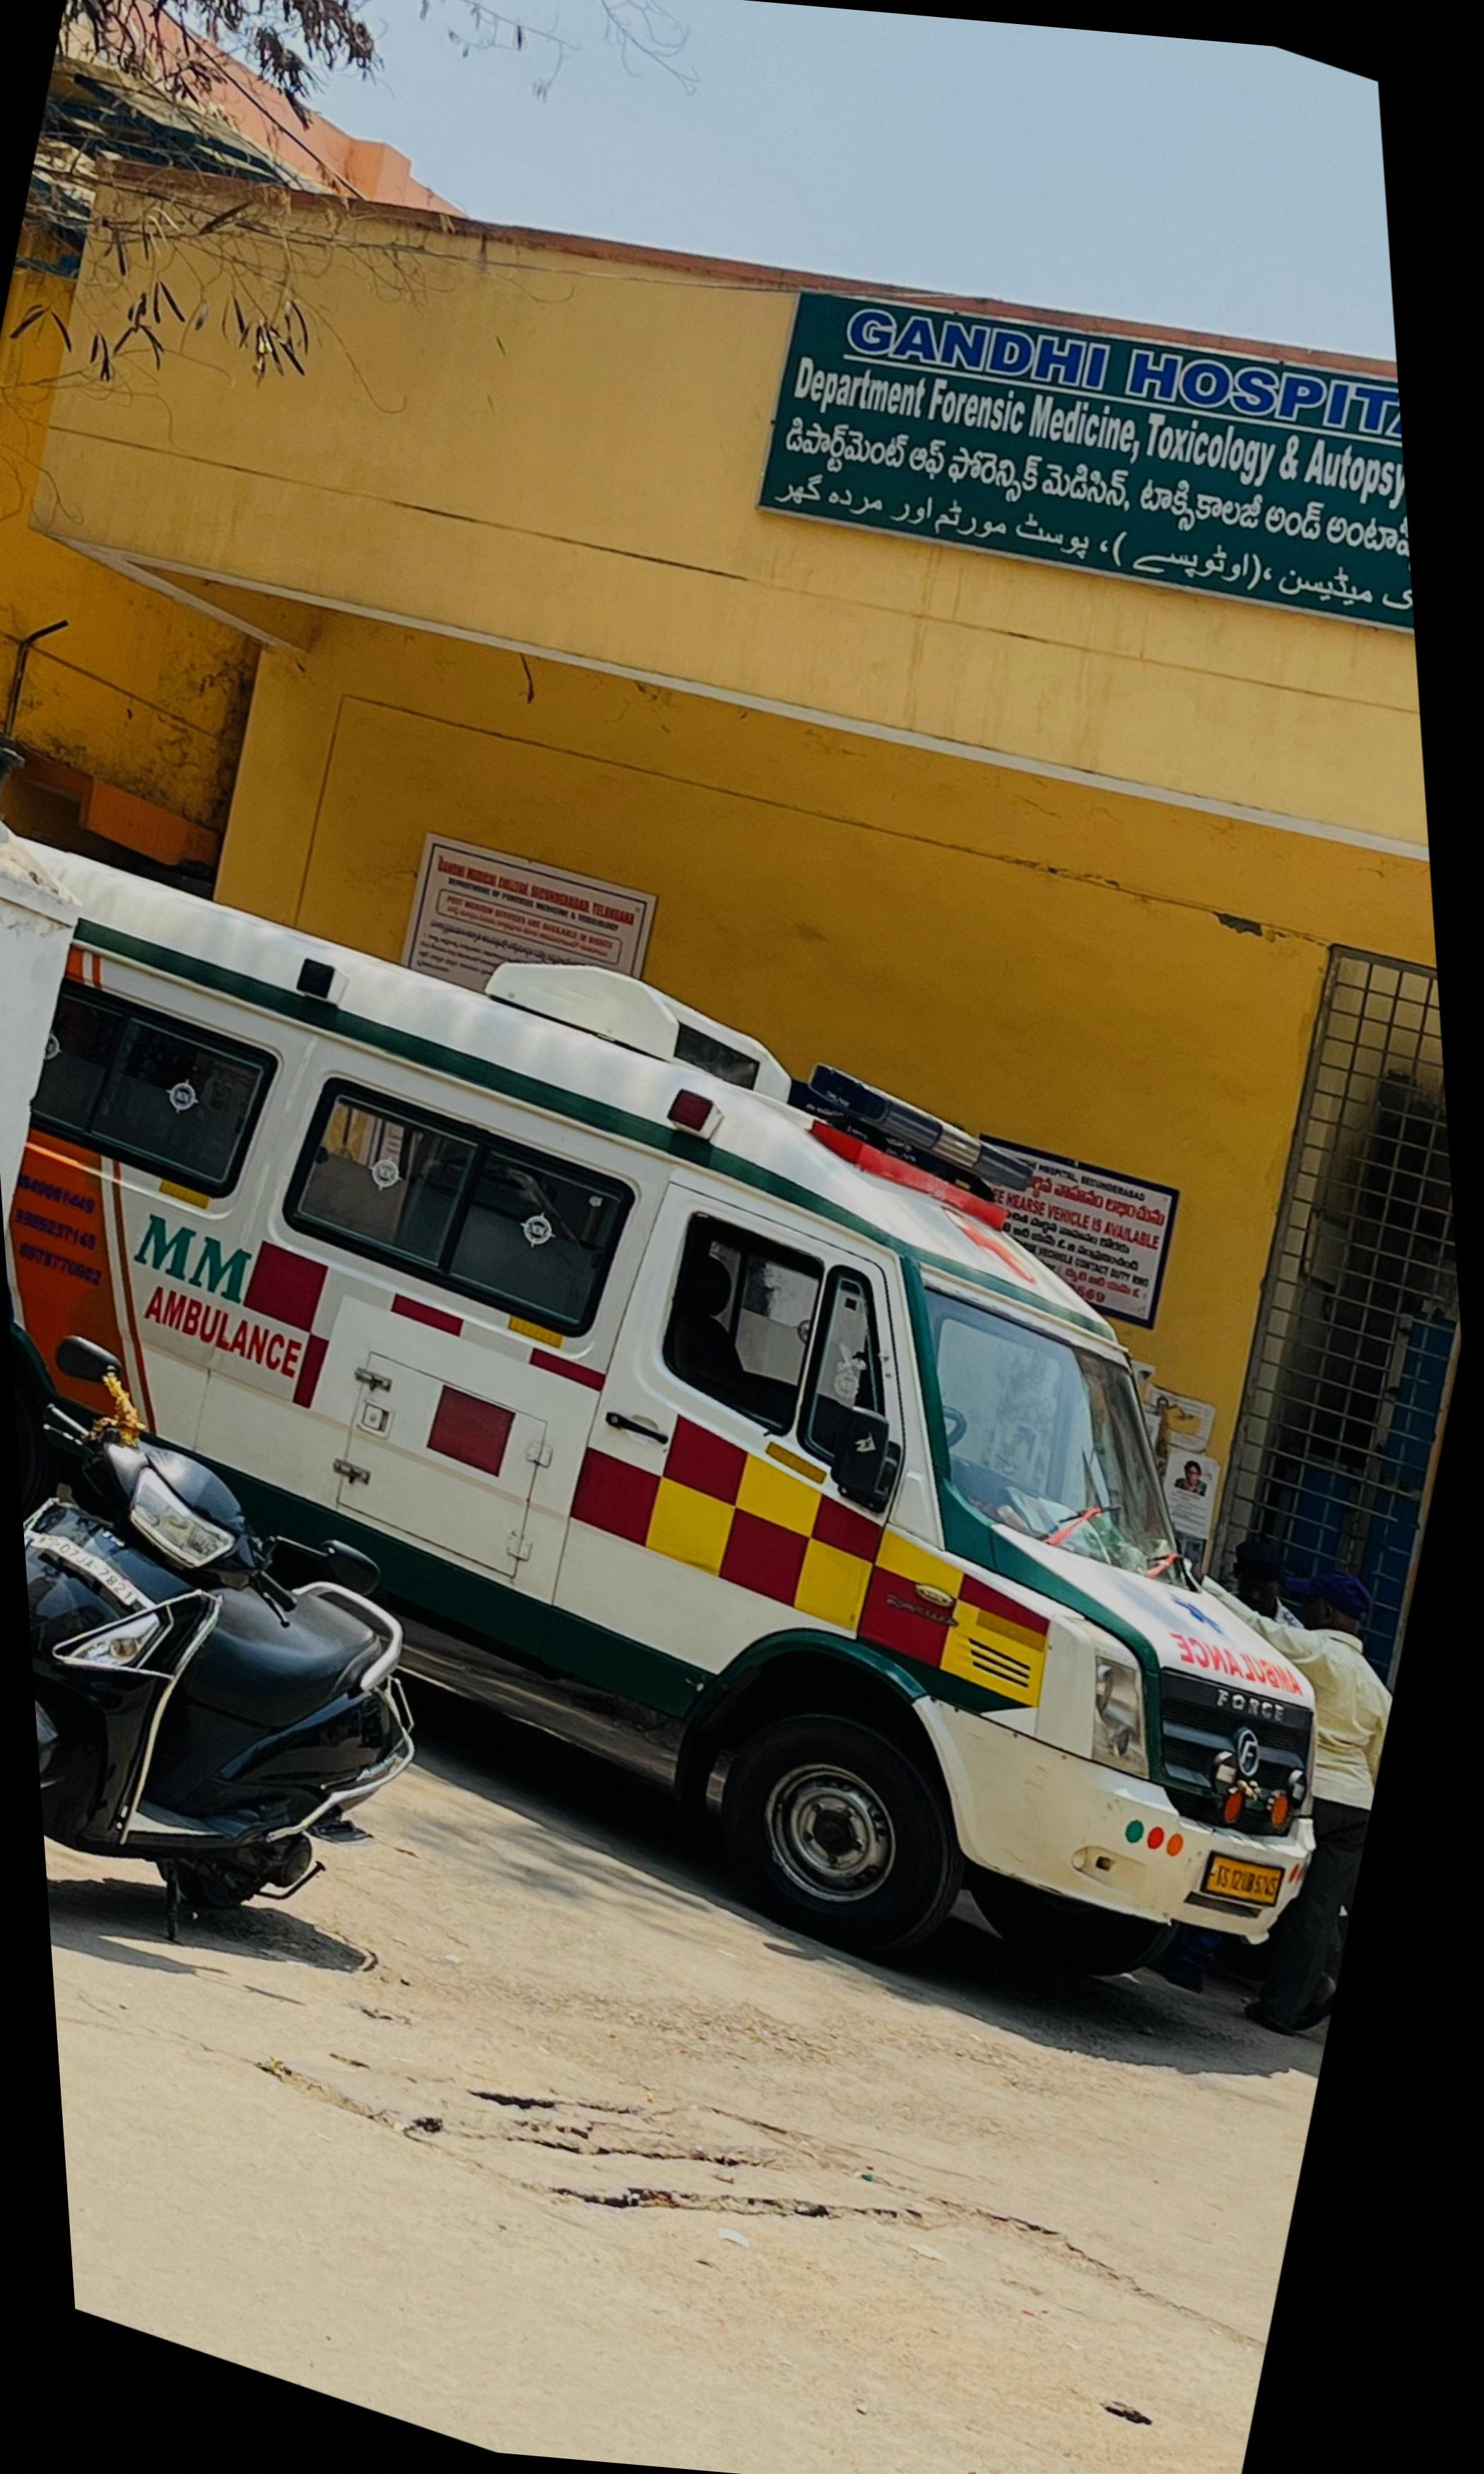ambulance: (12, 839, 1325, 1988)
